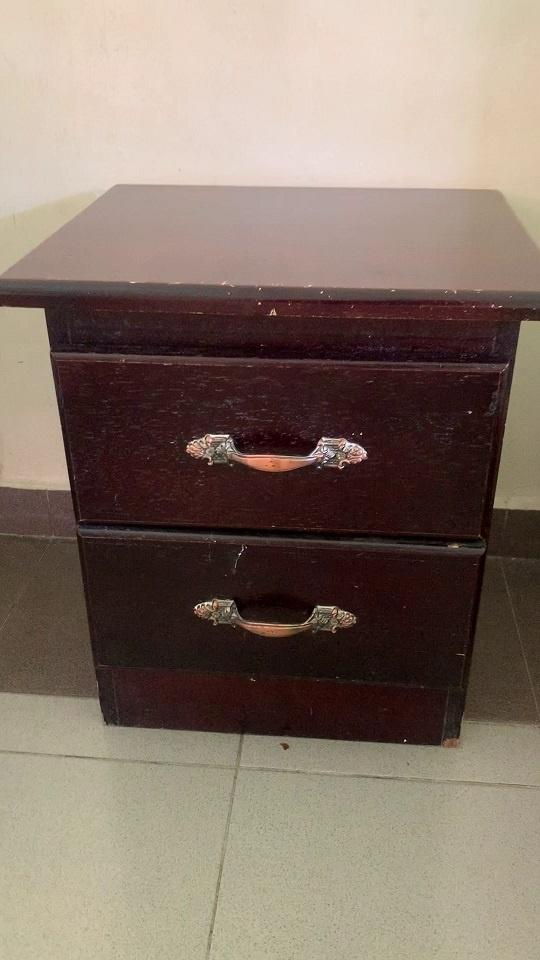cabinet_door: (67, 359, 495, 536), (84, 545, 477, 682)
handle: (184, 424, 377, 483), (190, 593, 361, 654)
